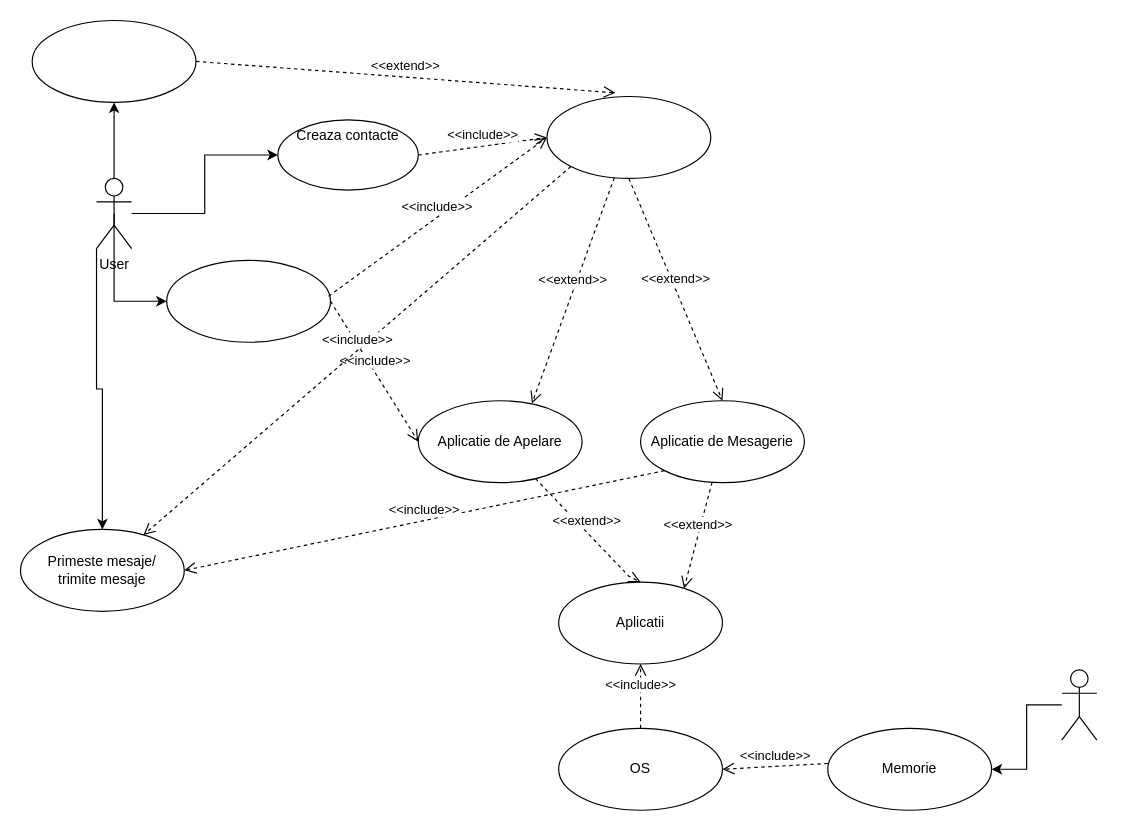
Some shapes in this 1122 by 831 pixel diagram are drawn without their labels. Here are the shapes that lost their labels. From the top down, the centre of each, then its label:
point (113, 60): Modica agenda
point (628, 136): Agenda
point (248, 300): Apeleaza / Primeste apeluri
point (1079, 704): Telefon
